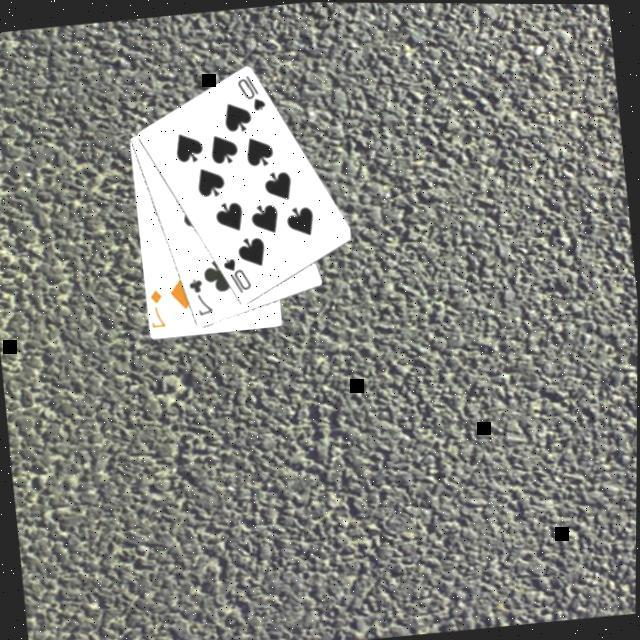10S: (220, 254, 256, 300), (234, 72, 270, 118)
7C: (186, 275, 218, 321)
7D: (147, 287, 170, 333)
